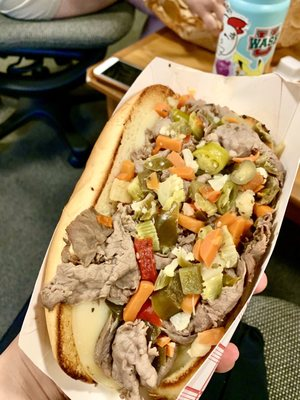pizza: (213, 0, 291, 77)
